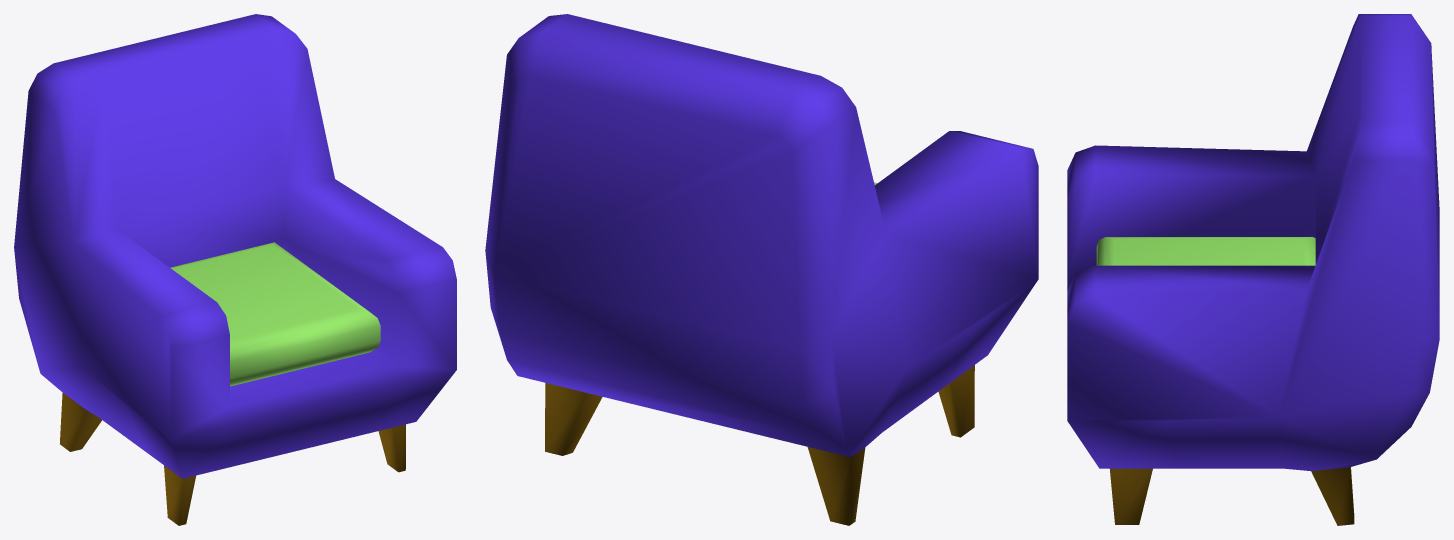
The picture shows the model from 3 angles, left to right: view 1: azimuth 30°, elevation 25°; view 2: azimuth 150°, elevation 25°; view 3: azimuth 270°, elevation 25°; orthographic projection. The views are drawn at different scales.
Visible parts, largest first — view 1: Cube.010; view 2: Cube.010; view 3: Cube.010.
Part boxes in pixels (x1,y1,x2,y2): Cube.010: [14, 14, 456, 525]; Cube.010: [485, 14, 1038, 525]; Cube.010: [1067, 14, 1439, 525].
Size of the model in its own units: 89.32 by 108 by 92.39.
